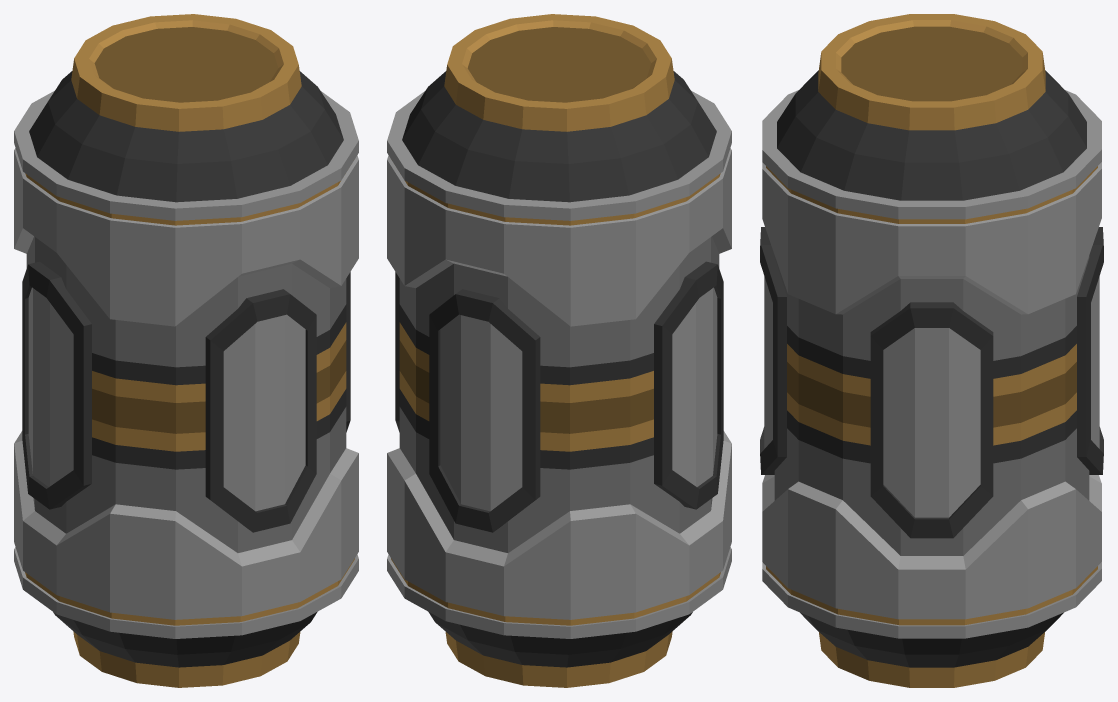
The model's file is Props_Capsule.glb.
The picture shows the model from 3 angles, left to right: view 1: azimuth 30°, elevation 25°; view 2: azimuth 150°, elevation 25°; view 3: azimuth 270°, elevation 25°; orthographic projection.
Visible parts, largest first — view 1: DarkAccent; view 2: DarkAccent; view 3: DarkAccent.
Part boxes in pixels (bbox=[...]): DarkAccent: bbox=[14, 14, 358, 687]; DarkAccent: bbox=[387, 14, 731, 687]; DarkAccent: bbox=[760, 14, 1103, 687].
Size of the model in its own units: 0.8694 by 1.62 by 0.8694.
1 material, 1 textured.
